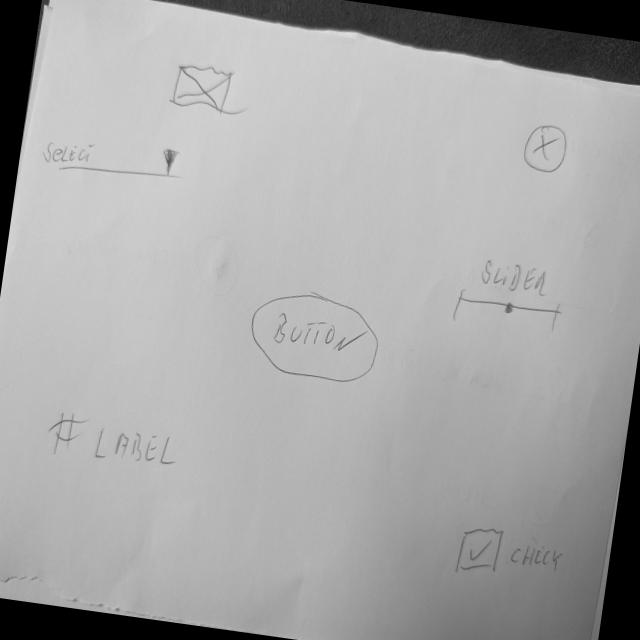button: (240, 284, 386, 392)
checkbox: (454, 520, 570, 592)
image: (170, 60, 236, 117), (518, 120, 574, 180)
label: (42, 406, 187, 474)
select: (54, 130, 190, 190)
slider: (450, 285, 564, 338)
